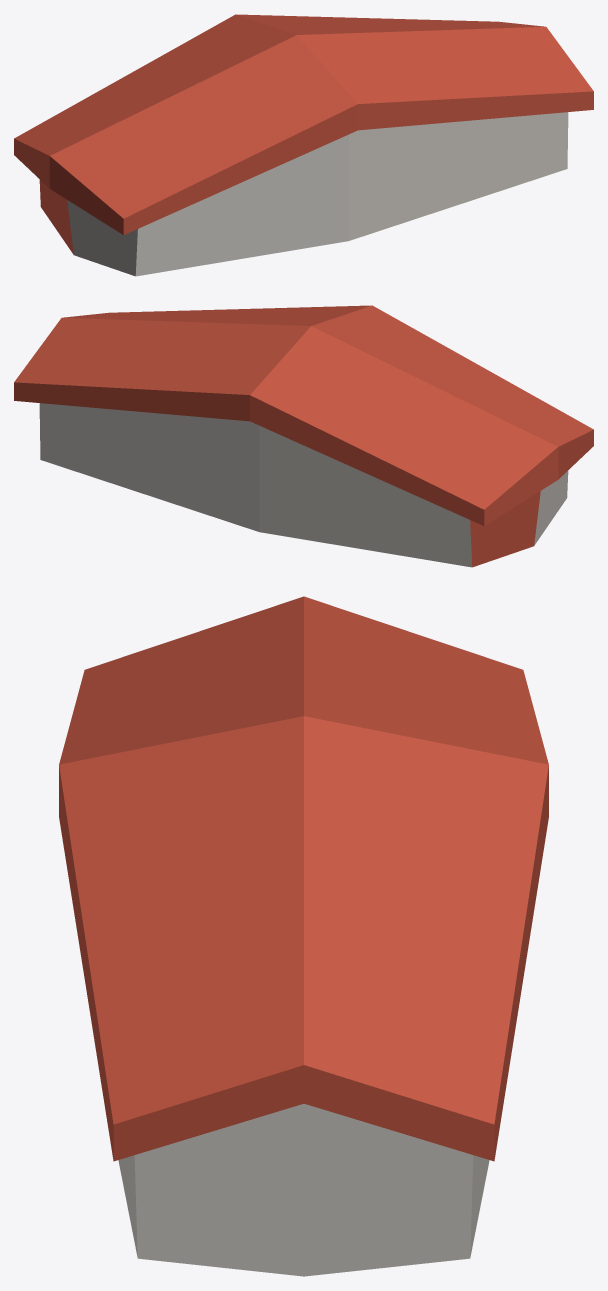
Rendered from niguiriSalmon.fbx.
3 views of the same model, one above another, from view 1: azimuth 30°, elevation 25°; view 2: azimuth 150°, elevation 25°; view 3: azimuth 270°, elevation 25° (orthographic). The views are drawn at different scales.
Parts seen in each view (by area): view 1: niguiriSalmon; view 2: niguiriSalmon; view 3: niguiriSalmon.
Part boxes in pixels (left/top/right/bottom): niguiriSalmon: left=14, top=14, right=593, bottom=276; niguiriSalmon: left=14, top=305, right=593, bottom=567; niguiriSalmon: left=59, top=596, right=548, bottom=1276.
Size of the model in its own units: 13.43 by 4.35 by 5.74.
Materials: 1 (1 with a texture image).
